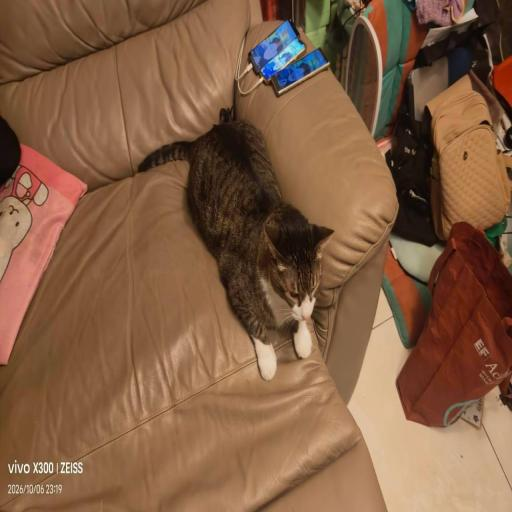cat: (206, 133, 318, 373)
